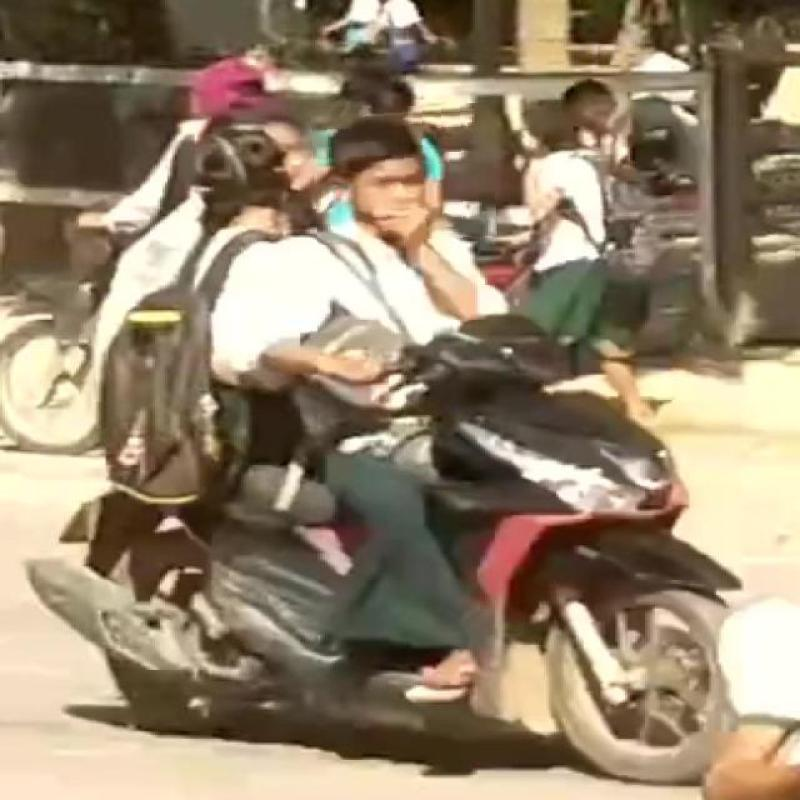nohelmet: (312, 104, 496, 244)
